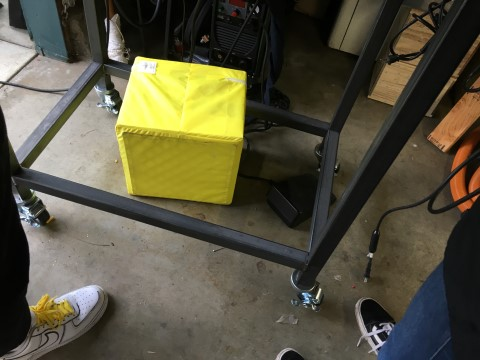cube: (115, 55, 248, 206)
